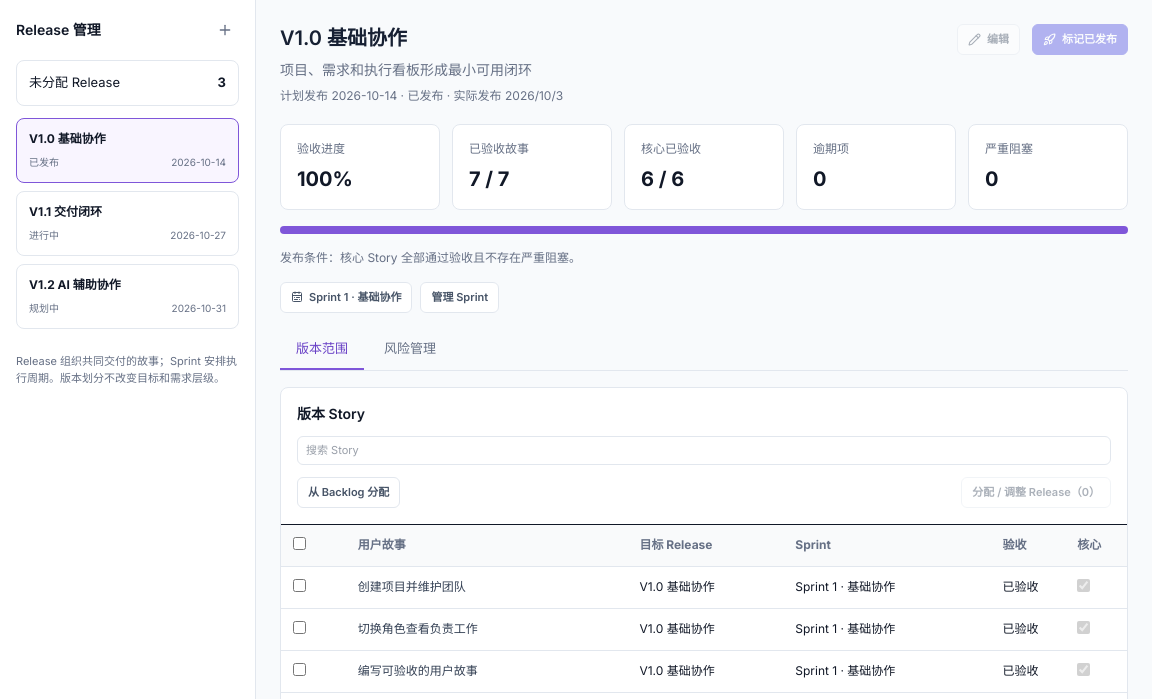
Test case: consolidated project, acceptance and risk pages › provides the same risk management panel within a selected Release
Click the button "V1.1 交付闭环 进行中 2026-10-27" at (128, 223), box 16,190 -> 239,256
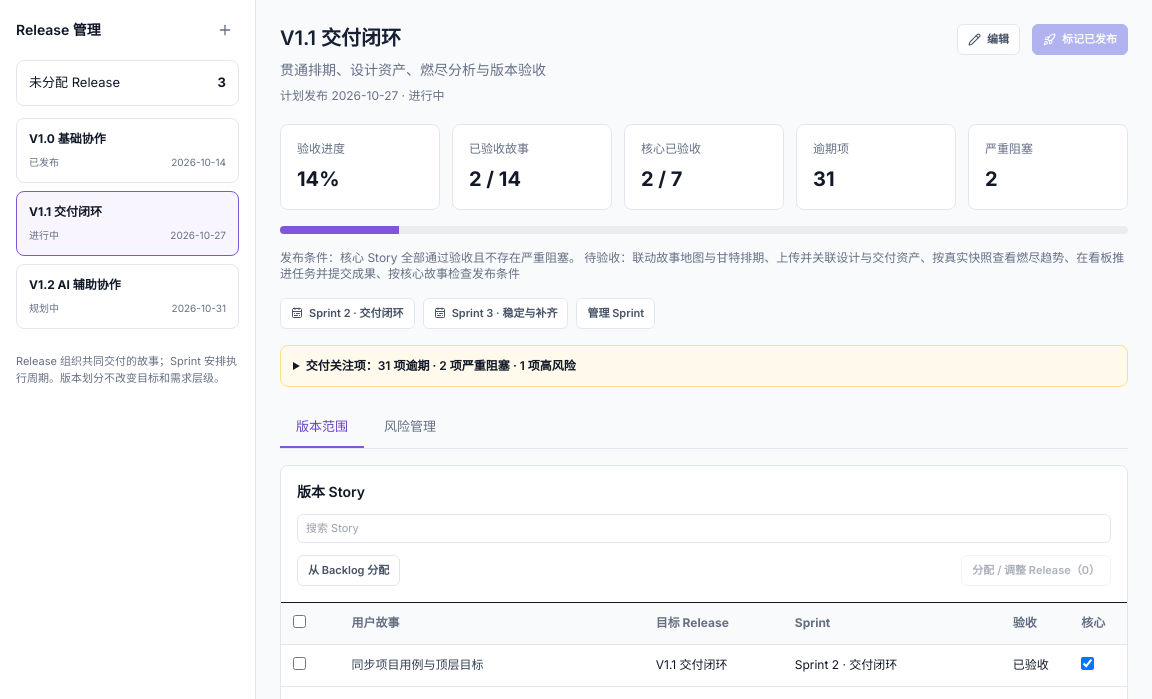
Click the tab "风险管理" at (410, 427), box 368,406 -> 452,448
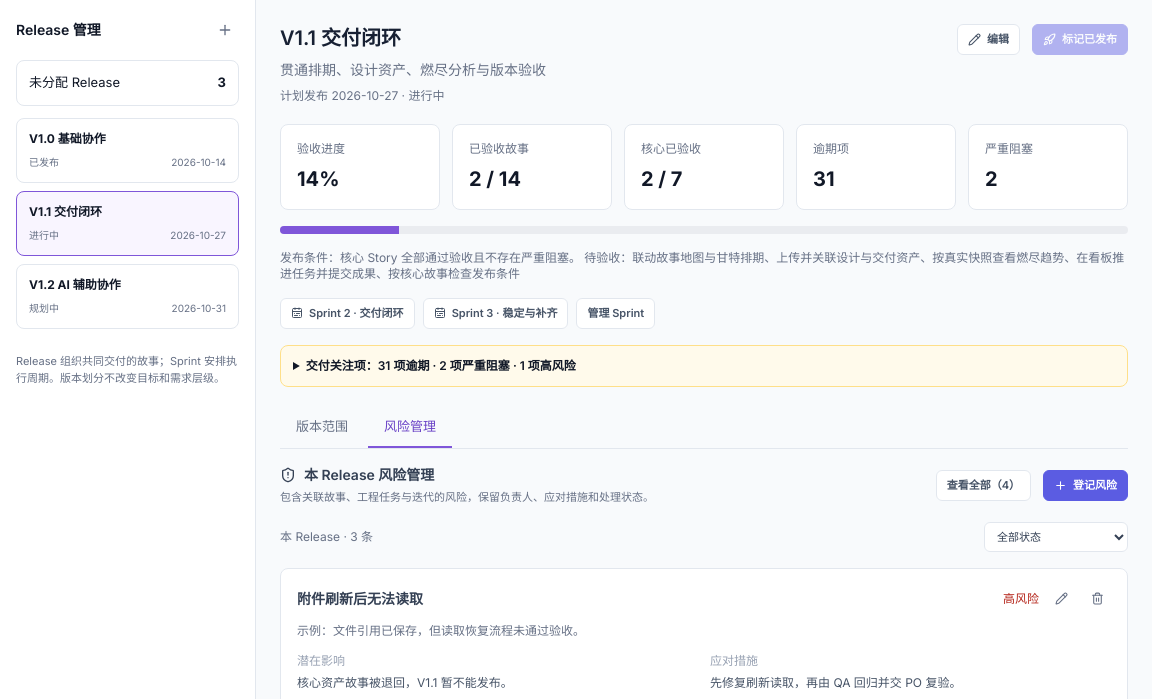
Expected: the heading "本 Release 风险管理" is shown, 280,466 -> 434,483
Expected: the heading "附件刷新后无法读取" is shown, 297,590 -> 423,606
Click the tab "版本范围" at (322, 427), box 280,406 -> 364,448
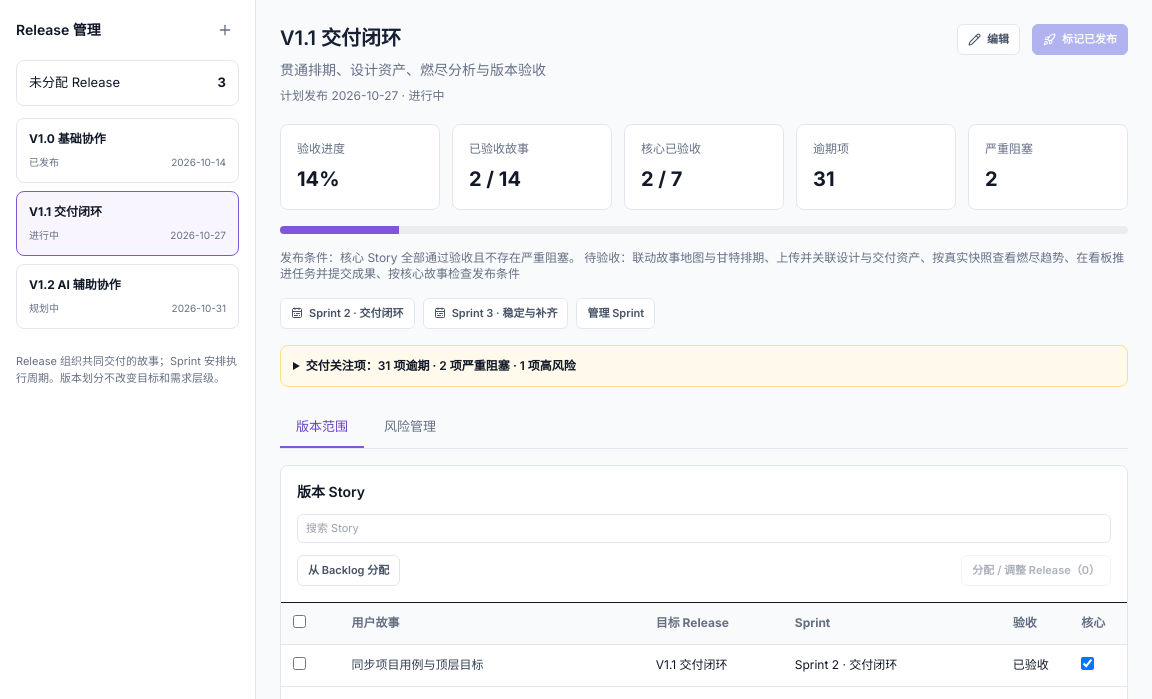
Expected: the heading "版本 Story" is shown, 297,482 -> 365,502
